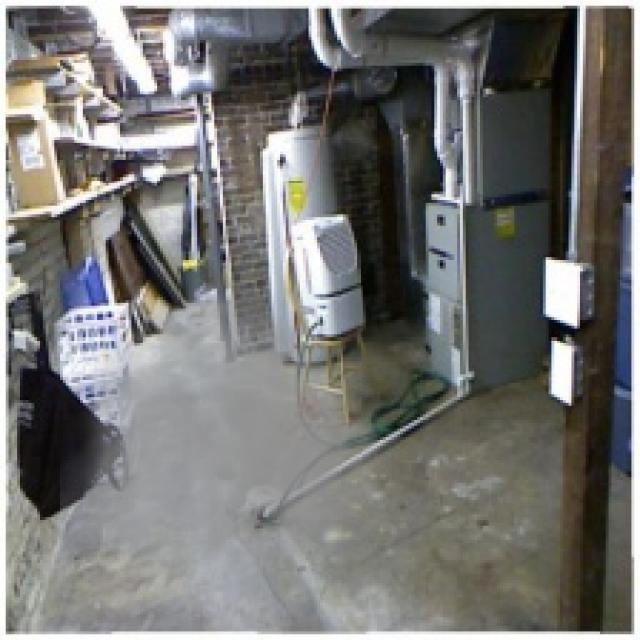Smoke: (60, 268, 417, 632)
